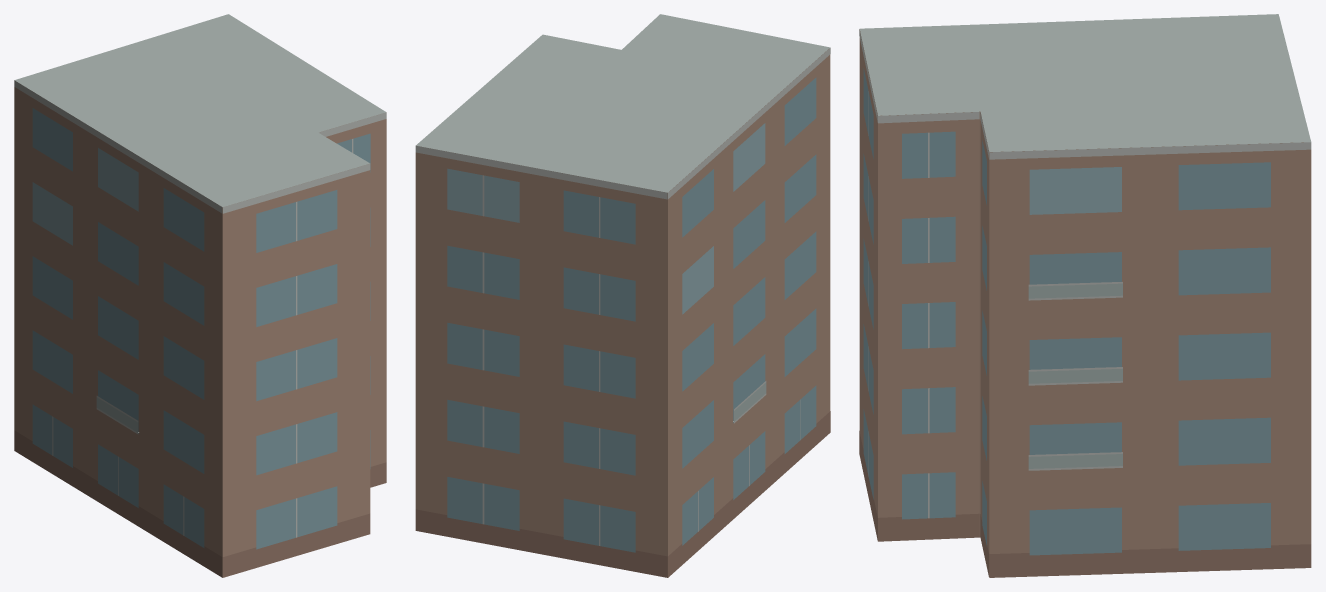
The model's file is survey-upis-32873788.glb.
3 renders of one model, left to right at view 1: azimuth 30°, elevation 25°; view 2: azimuth 150°, elevation 25°; view 3: azimuth 270°, elevation 25°, orthographic. The views are drawn at different scales.
Parts seen in each view (by area): view 1: survey-upis-32873788.tmp; view 2: survey-upis-32873788.tmp; view 3: survey-upis-32873788.tmp.
Part boxes in pixels (x1,y1,x2,y2): survey-upis-32873788.tmp: [14, 14, 386, 577]; survey-upis-32873788.tmp: [415, 14, 830, 577]; survey-upis-32873788.tmp: [859, 14, 1311, 577].
Bounding box in the file's own units: 9.61 × 13.8 × 13.28.
